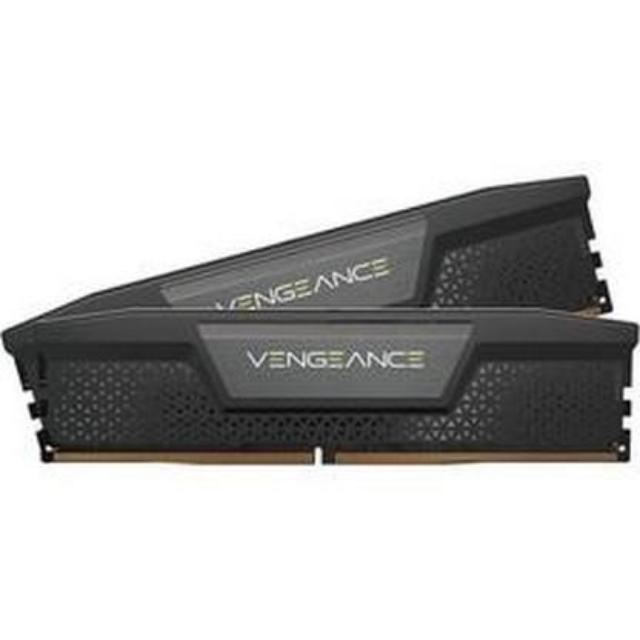RAM: (3, 175, 640, 482)
